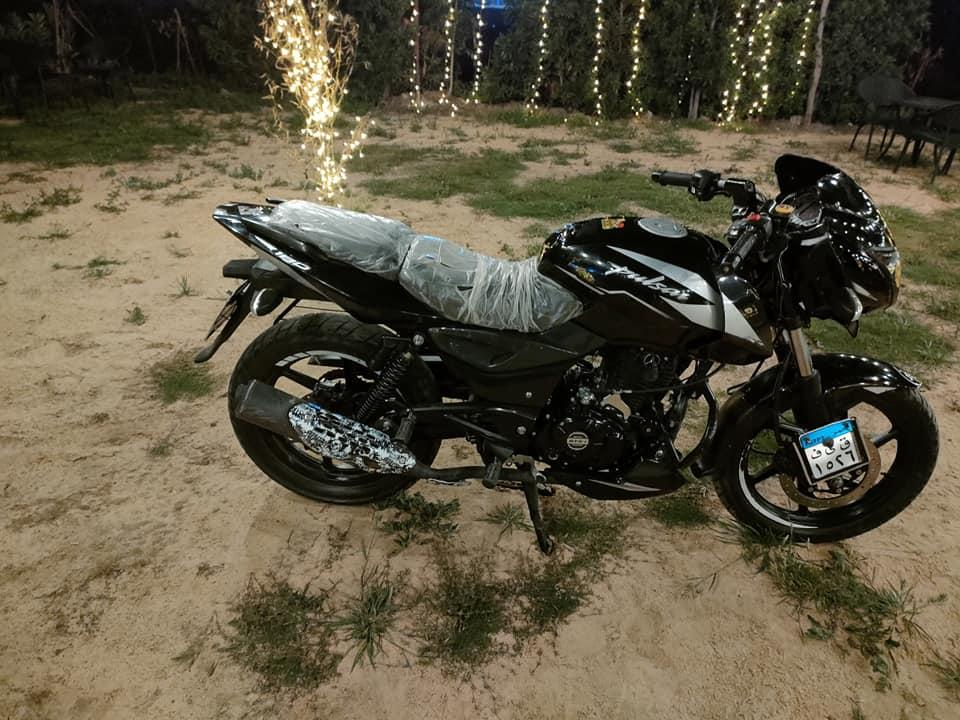License Plate: (794, 418, 872, 480)
